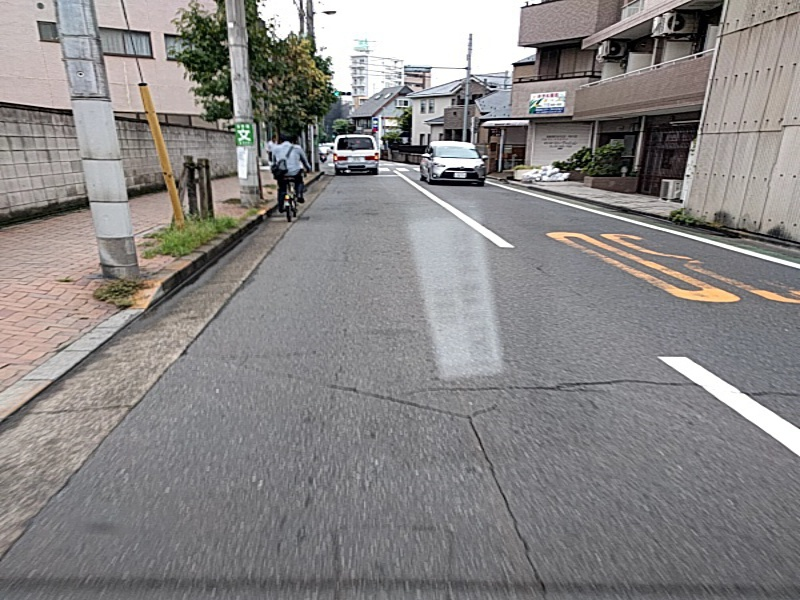long_crack: (461, 416, 552, 587)
side_crack: (433, 365, 671, 397)
